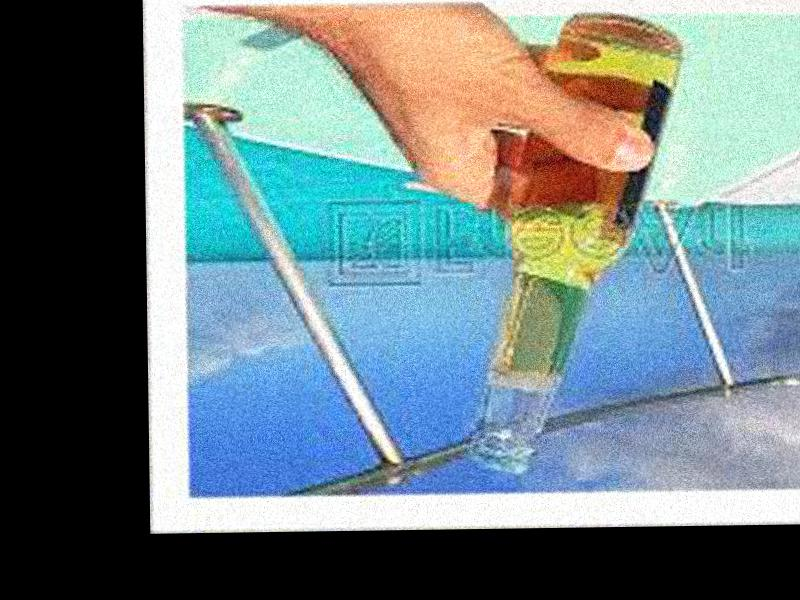Beer: (450, 18, 692, 470)
